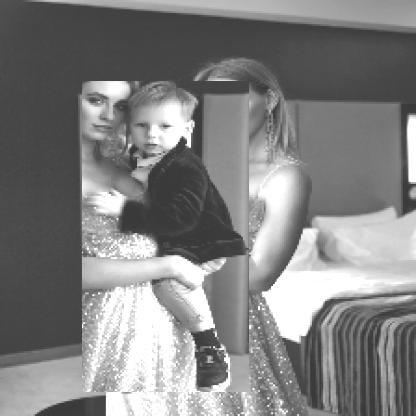child: (83, 83, 251, 395)
